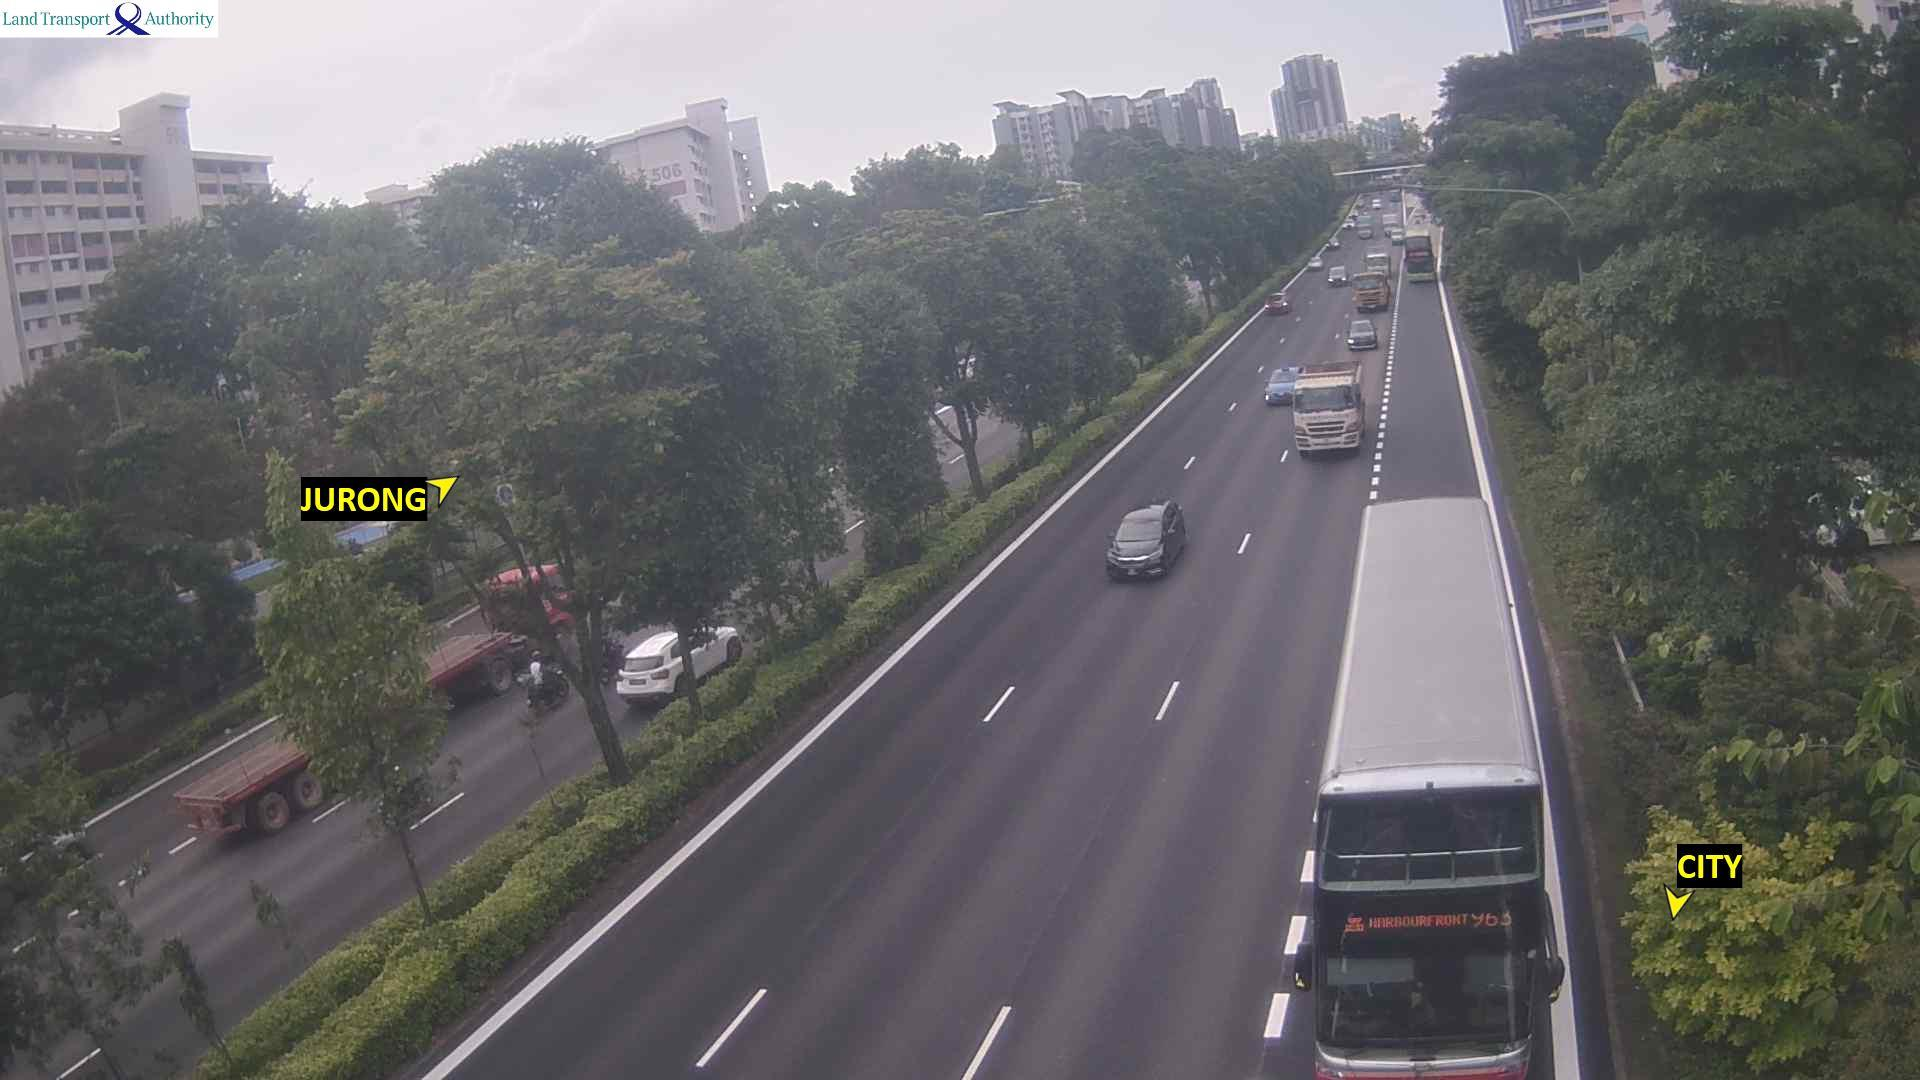bus: (1290, 496, 1566, 1079), (1399, 233, 1442, 288)
cars: (614, 619, 742, 706), (1103, 497, 1187, 581), (1262, 364, 1302, 405), (1346, 318, 1377, 349), (1263, 290, 1290, 314), (1326, 263, 1348, 285), (1354, 214, 1374, 238), (1387, 224, 1405, 243), (1307, 252, 1324, 269), (1342, 213, 1357, 229), (1324, 236, 1340, 250), (1369, 195, 1382, 209)
motorcycle: (520, 663, 569, 712)
trucks: (171, 560, 597, 837), (1290, 360, 1365, 458), (1352, 271, 1389, 311), (1364, 249, 1390, 276)
